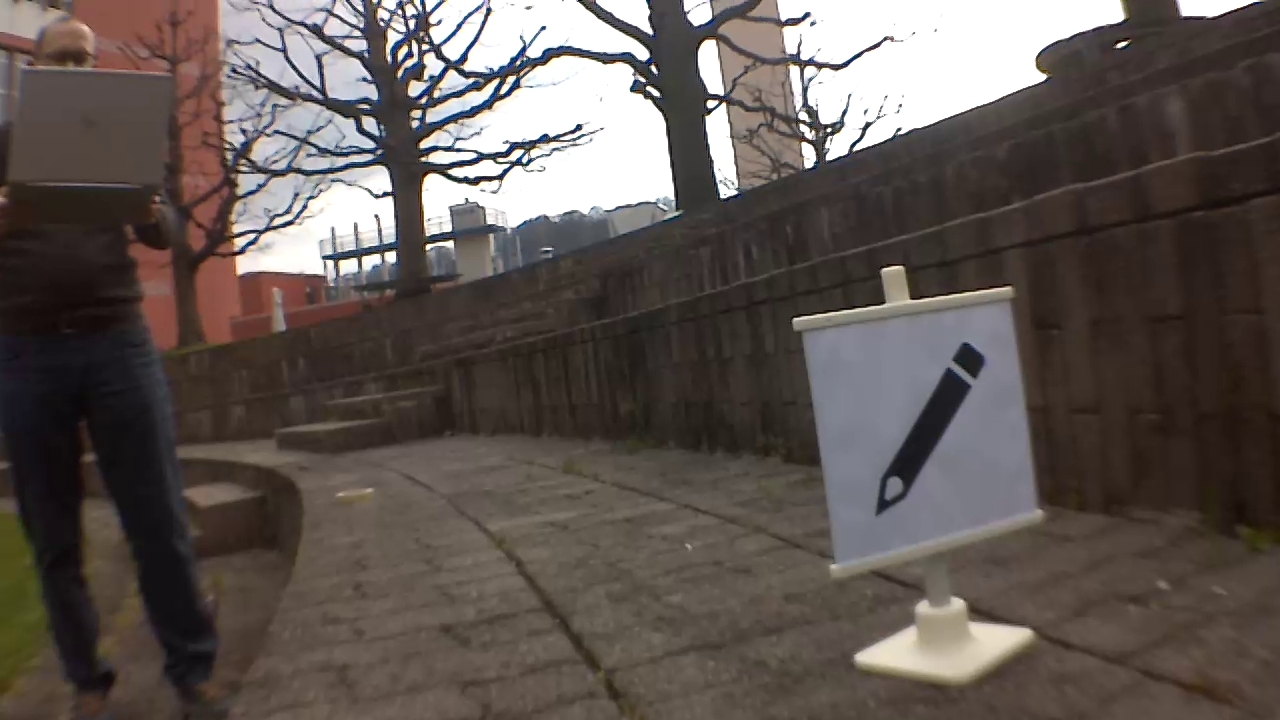pencil: (871, 336, 995, 512)
